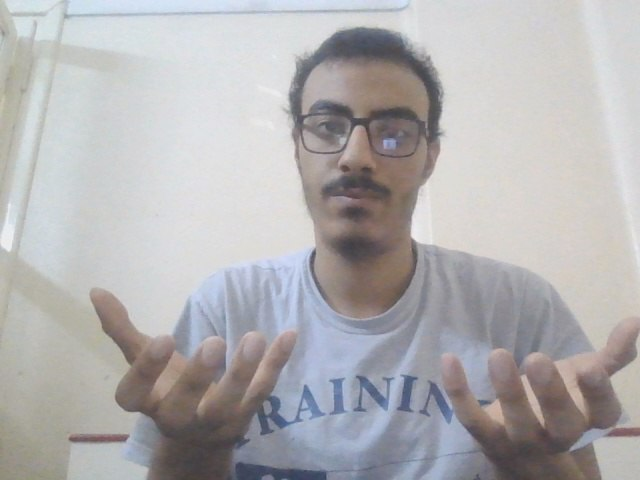What: (86, 284, 640, 453)
